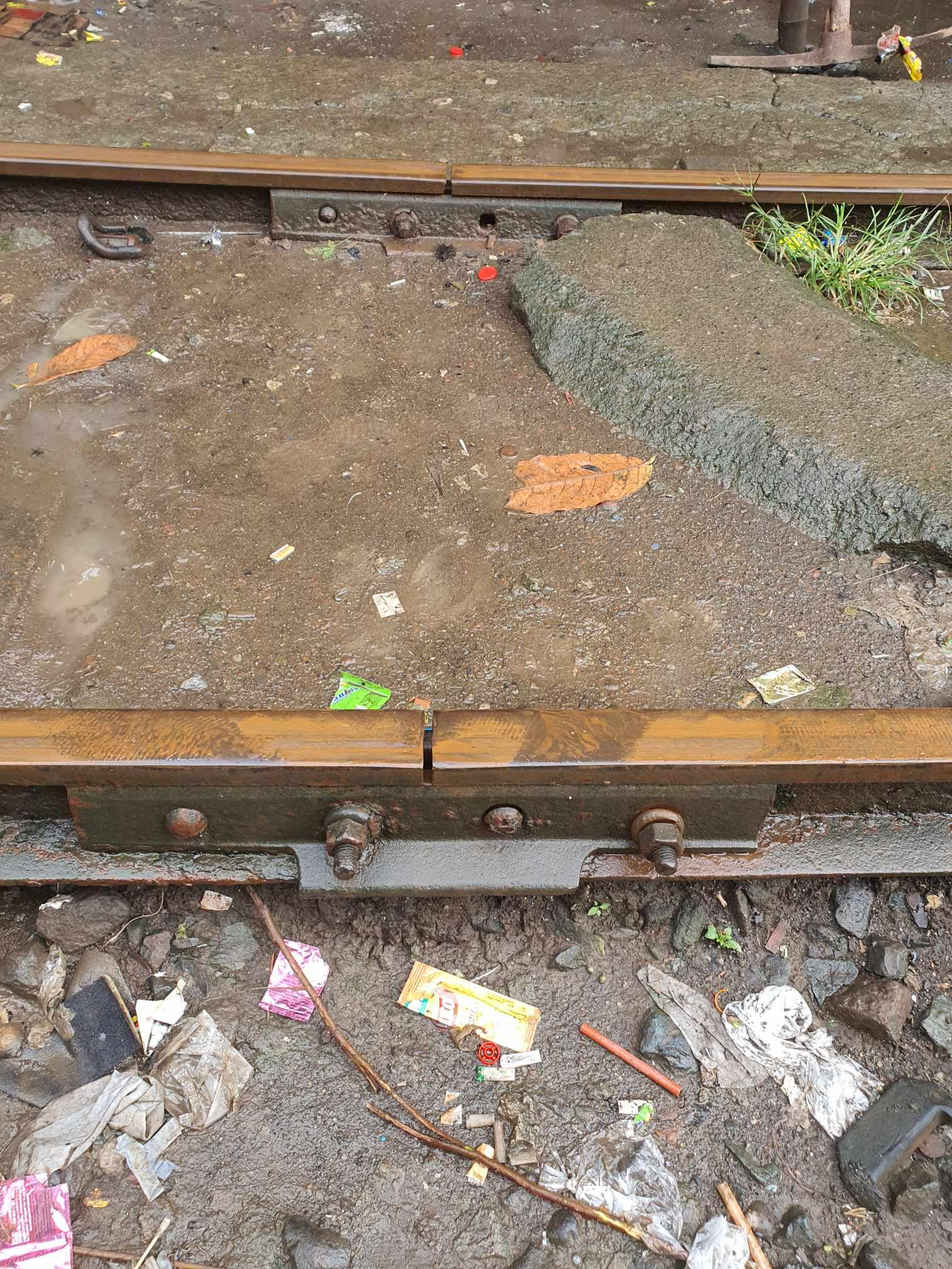railway-gap: (362, 682, 494, 798), (408, 141, 496, 227)
